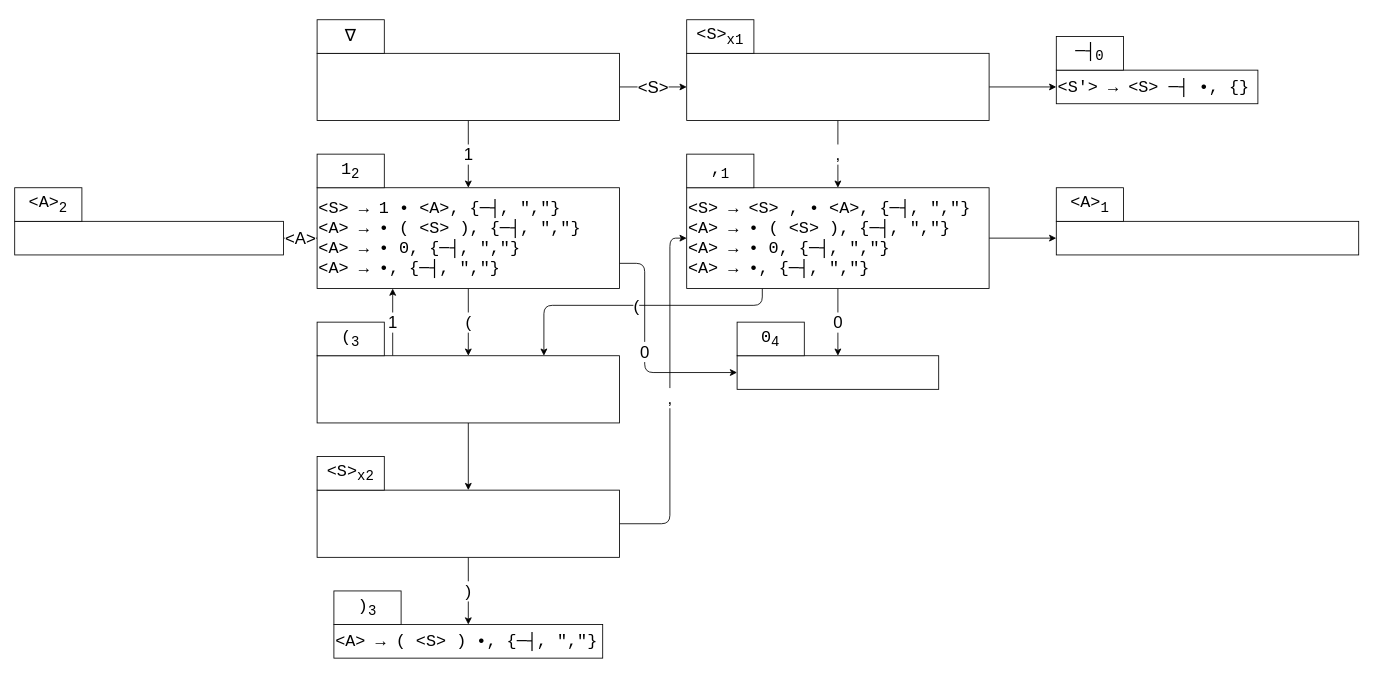
Some shapes in this 1373 by 682 pixel diagram are drawn without their labels. The shapes that lost their labels are listed below. From the top down, each one's centre as x and y in pixels, then its label:
pixel 468 86: <S'> → • <S> ─┤, {} <S> → • <S> , <A>, {─┤, ","} <S> → • 1 <A>, {─┤, ","}
pixel 837 86: <S'> → <S> • ─┤, {} <S> → <S> • , <A>, {─┤, ","}
pixel 149 237: <S> → 1 <A> •, {─┤, ","}
pixel 1207 237: <S> → <S> , <A> •, {─┤, ","}
pixel 468 389: <A> → ( • <S> ), {─┤, ","} <S> → • <S> , <A>, {), ","} <S> → • 1 <A>, {), ","}
pixel 837 372: <A> → 0 •, {─┤, ","}
pixel 468 523: <A> → ( <S> • ), {─┤, ","} <S> → <S> • , <A>, {), ","}
